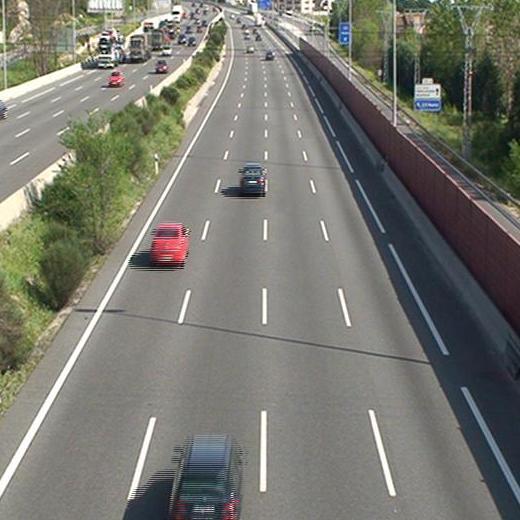car: (168, 437, 241, 520), (150, 225, 189, 265), (238, 164, 264, 195), (265, 50, 275, 61)
